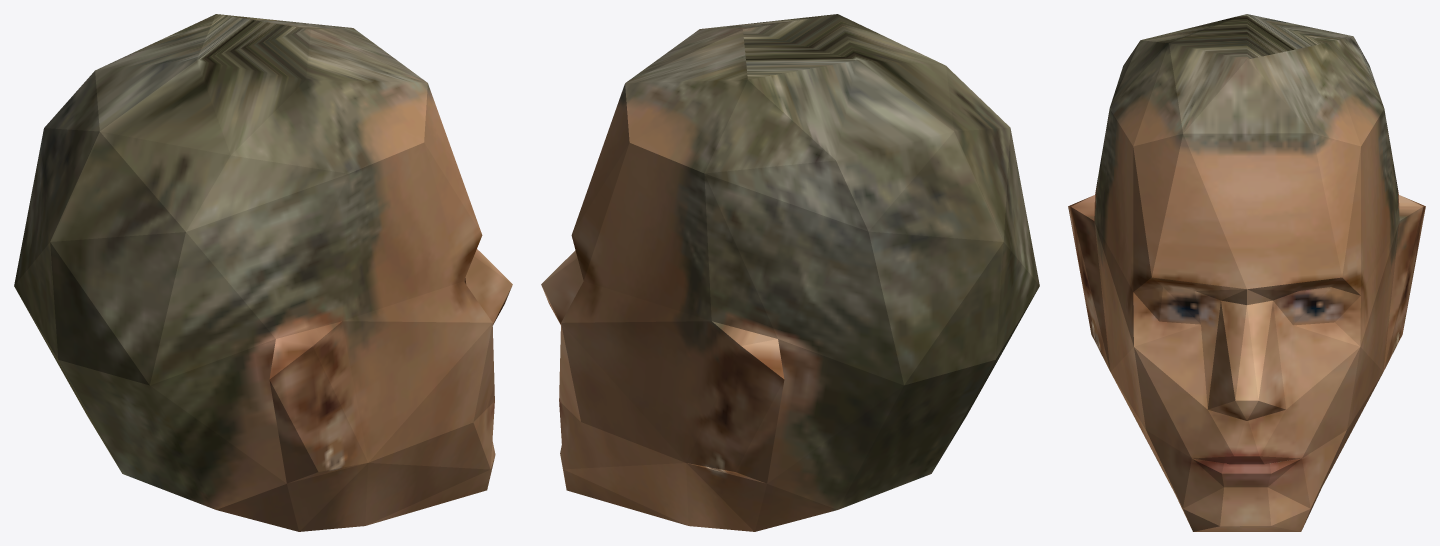
File: UNICORN.glb
The picture shows the model from 3 angles, left to right: view 1: azimuth 30°, elevation 25°; view 2: azimuth 150°, elevation 25°; view 3: azimuth 270°, elevation 25°; orthographic projection. The views are drawn at different scales.
Visible parts, largest first — view 1: zm_Morph; view 2: zm_Morph; view 3: zm_Morph.
Part boxes in pixels (x1,y1,x2,y2): zm_Morph: (14,14,512,531); zm_Morph: (541,14,1039,531); zm_Morph: (1068,14,1425,531).
Bounding box in the file's own units: 0.2327 × 0.2321 × 0.1823.
3 materials, 3 textured.
